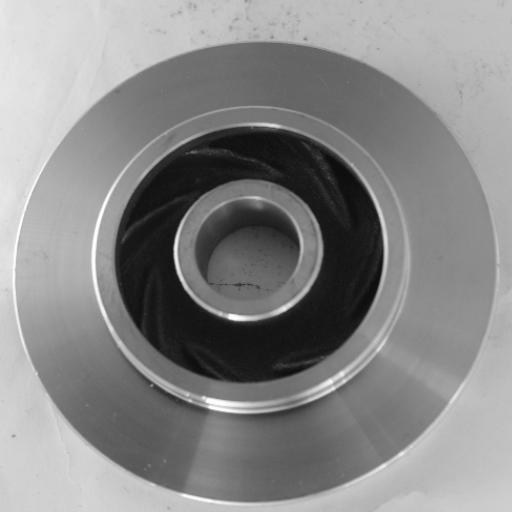polished_casting: (14, 39, 499, 505)
